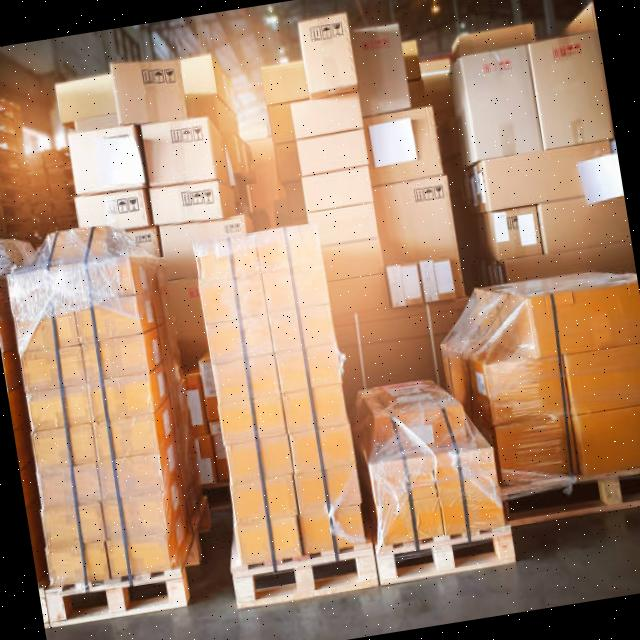Wooden-Pallets: (225, 537, 382, 615), (42, 562, 200, 636), (504, 455, 640, 535), (379, 524, 515, 594)
